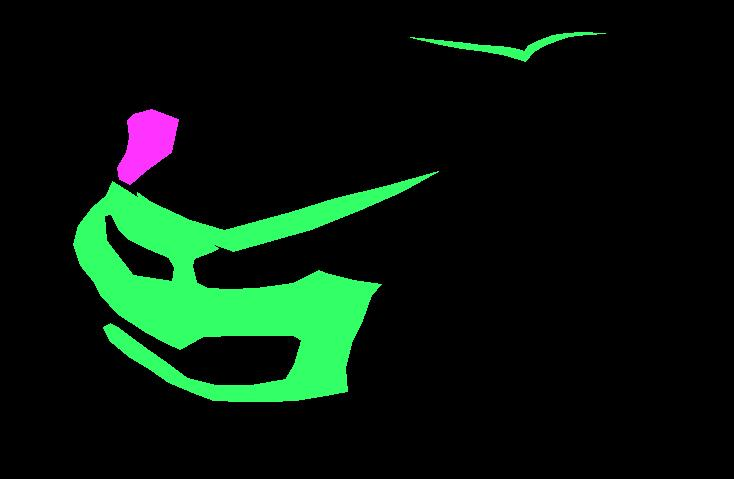Broken part: (73, 181, 381, 401), (137, 171, 438, 251), (410, 32, 605, 61)
Dent: (117, 109, 178, 184)
